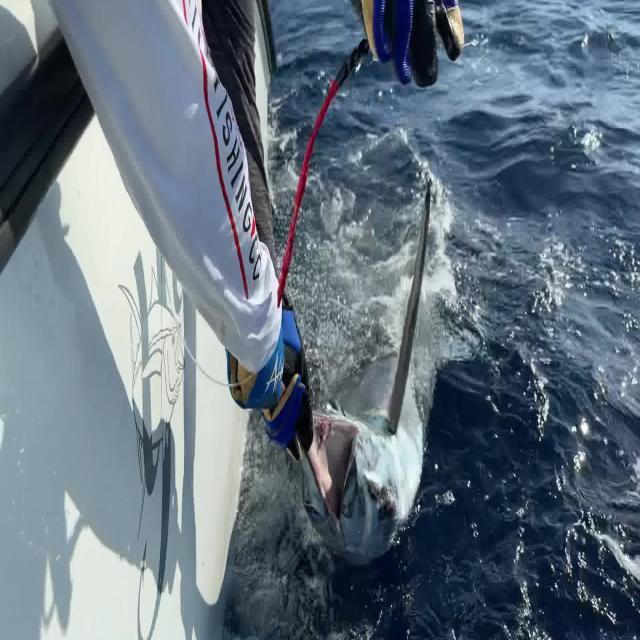Liberacion segura: (277, 177, 475, 568)
